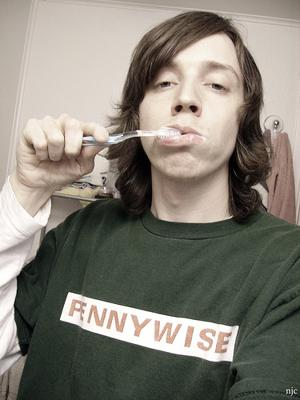person: (1, 9, 300, 400)
